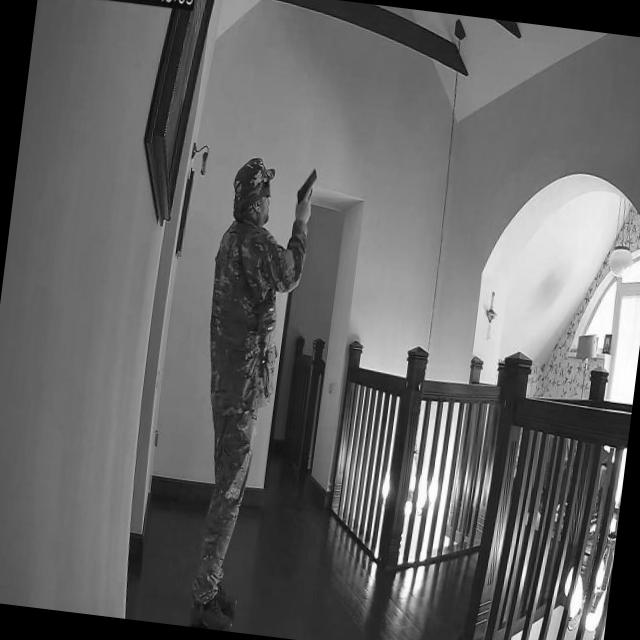gun: (293, 166, 318, 213)
person with a gun: (168, 151, 298, 632)
